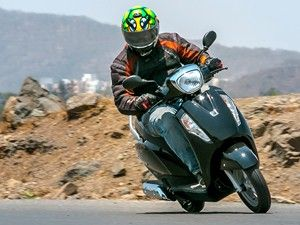helmet: (117, 6, 163, 56)
